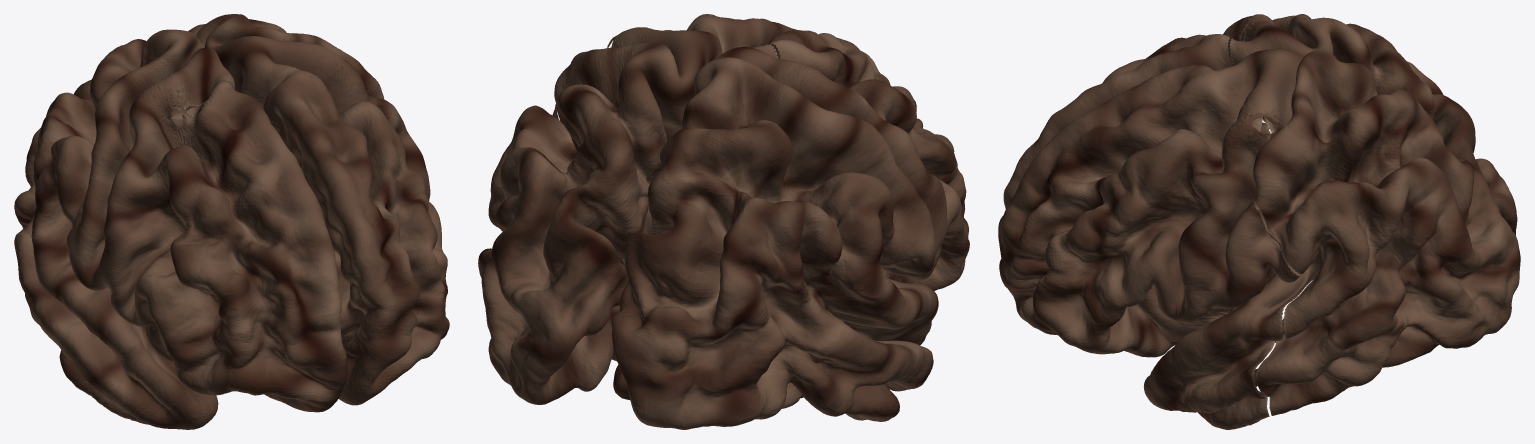
3 views of the same model, side by side, from view 1: azimuth 30°, elevation 25°; view 2: azimuth 150°, elevation 25°; view 3: azimuth 270°, elevation 25° (orthographic). The views are drawn at different scales.
Visible parts, largest first — view 1: world; view 2: world; view 3: world.
Boxes of the visible parts, bbox=[...] form: world: bbox=[14, 14, 449, 429]; world: bbox=[478, 14, 969, 429]; world: bbox=[998, 14, 1520, 429].
Bounding box in the file's own units: 1.85 × 1.69 × 2.32.
1 material, 1 textured.
